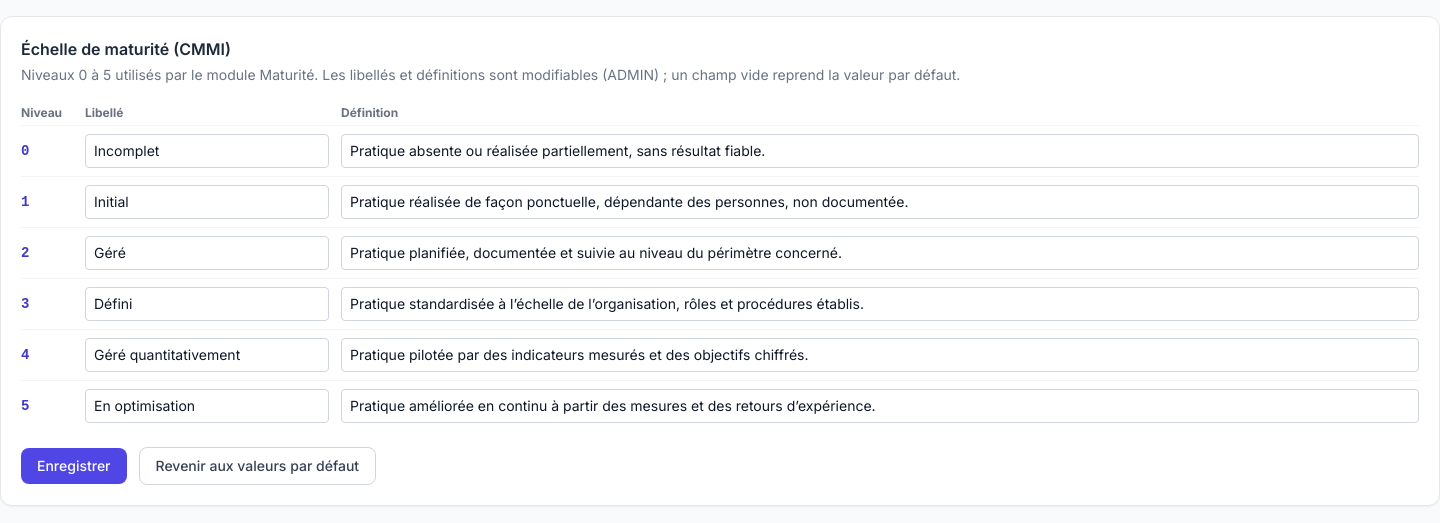
Test: MaturityScaleEditor › enregistre uniquement les niveaux modifiés par rapport au défaut
Replace the text in the field showing "Initial" with "Artisanal" at (207, 202), box [85, 185, 329, 219]
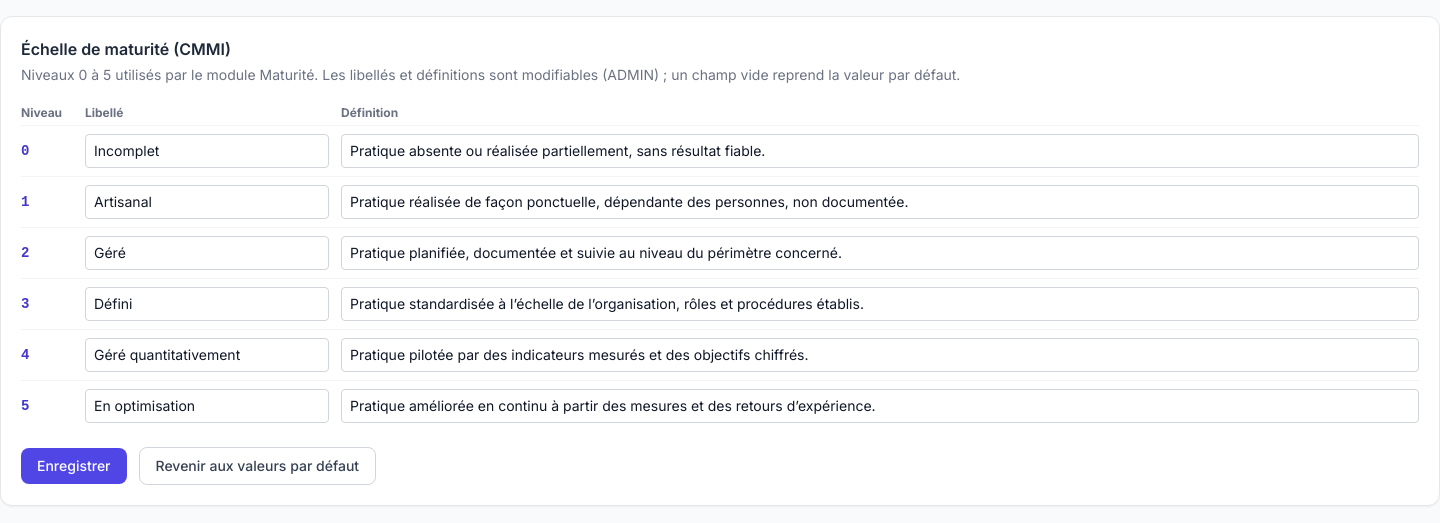
Click the button "Enregistrer" at (74, 466), box [21, 448, 126, 484]
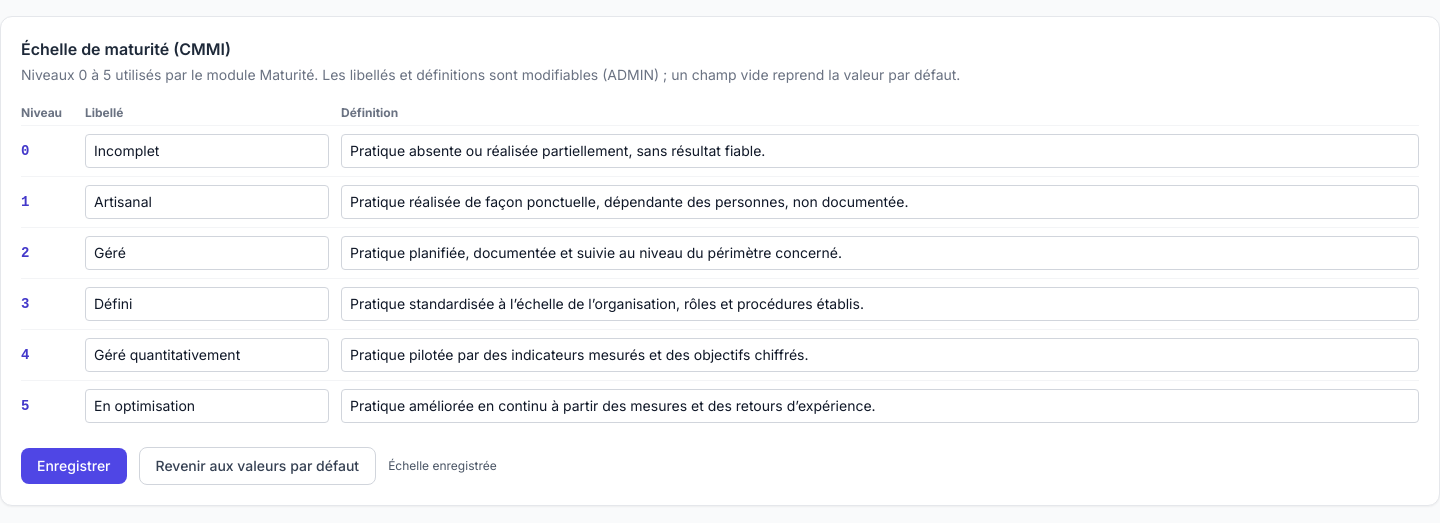
Now the text "Échelle enregistrée" is shown, box [388, 458, 497, 474]
